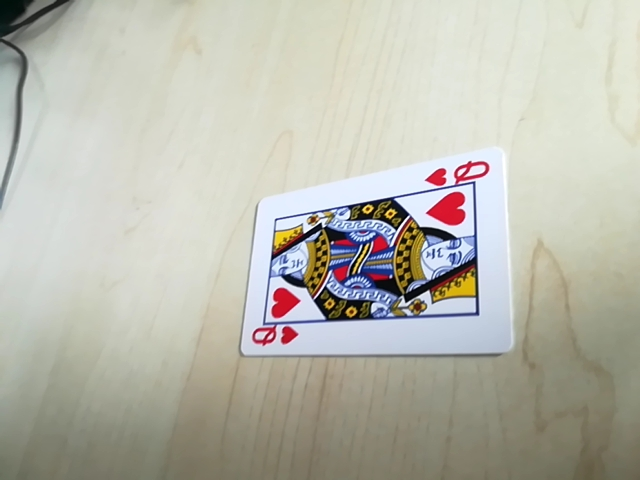hx q: (421, 156, 493, 189), (247, 321, 301, 354)
